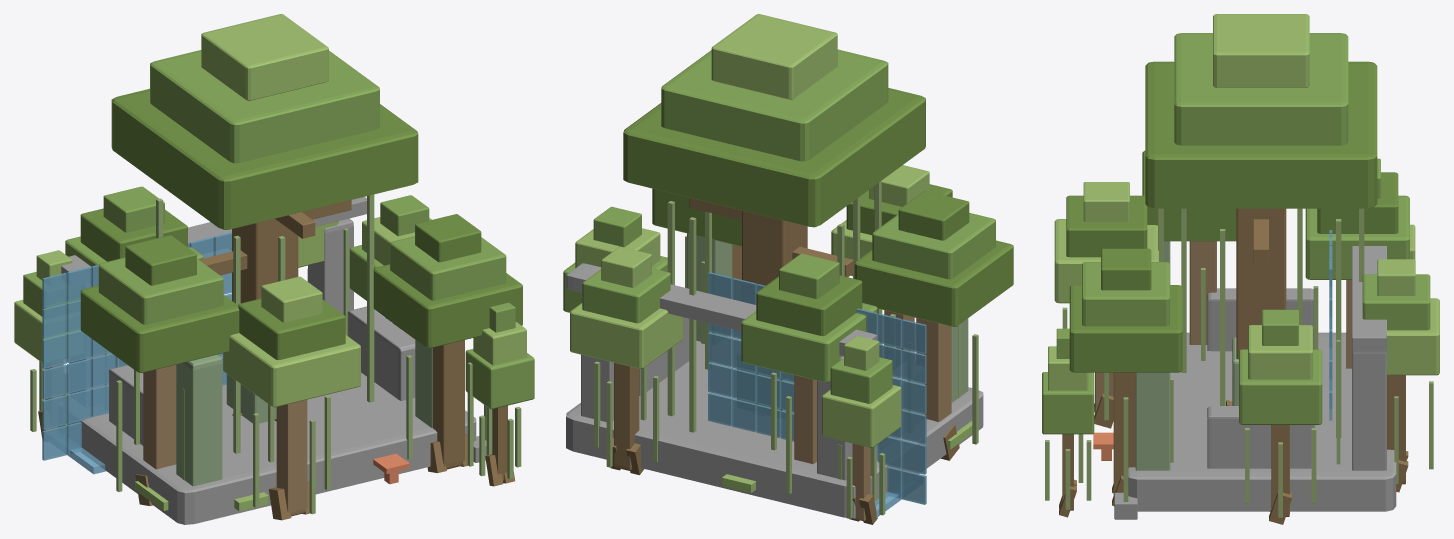
File: jungle.glb
3 views of the same model, side by side, from view 1: azimuth 30°, elevation 25°; view 2: azimuth 150°, elevation 25°; view 3: azimuth 270°, elevation 25° (orthographic). The views are drawn at different scales.
Parts seen in each view (by area): view 1: Cube.282, Cube.295, Cube.283, Cube.284, Cube.219, Cube.249, Cube.239, Cube.298, Cube.220, Cube.250, Cube.240, Cube.248 (+47 smaller); view 2: Cube.282, Cube.295, Cube.283, Cube.284, Cube.219, Cube.199, Cube.220, Cube.209, Cube.200, Cube.259, Cube.278, Cube.304 (+48 smaller); view 3: Cube.282, Cube.295, Cube.283, Cube.284, Cube.249, Cube.278, Cube.229, Cube.250, Cube.301, Cube.297, Cube.199, Cube.299 (+30 smaller).
Part boxes in pixels (box(x1,y1,x2,y2)): Cube.282: box(111, 88, 418, 229); Cube.295: box(58, 356, 476, 524); Cube.283: box(150, 50, 379, 163); Cube.284: box(201, 14, 328, 100); Cube.219: box(80, 285, 239, 372); Cube.249: box(373, 264, 522, 348); Cube.239: box(223, 333, 360, 407); Cube.298: box(176, 354, 222, 486); Cube.220: box(98, 257, 223, 324); Cube.250: box(390, 236, 506, 300); Cube.240: box(238, 298, 345, 359); Cube.248: box(432, 340, 464, 469); Cube.282: box(623, 88, 925, 227); Cube.295: box(566, 336, 983, 518); Cube.283: box(661, 49, 888, 161); Cube.284: box(711, 14, 837, 99); Cube.219: box(854, 240, 1013, 326); Cube.199: box(741, 303, 877, 382); Cube.220: box(872, 213, 995, 279); Cube.209: box(570, 303, 683, 368); Cube.200: box(756, 275, 862, 336); Cube.259: box(822, 385, 901, 447); Cube.278: box(742, 210, 807, 285); Cube.304: box(566, 263, 877, 356); Cube.282: box(1145, 61, 1377, 208); Cube.295: box(1128, 332, 1396, 511); Cube.283: box(1174, 33, 1348, 145); Cube.284: box(1213, 14, 1309, 87); Cube.249: box(1069, 285, 1182, 372); Cube.278: box(1236, 208, 1286, 359); Cube.229: box(1239, 349, 1322, 424); Cube.250: box(1082, 262, 1169, 326); Cube.301: box(1207, 406, 1315, 468); Cube.297: box(1352, 348, 1386, 470); Cube.199: box(1305, 195, 1409, 279); Cube.299: box(1135, 372, 1170, 470).
Size of the model in its own units: 11.23 by 11.76 by 10.3.
